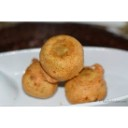bonda: (39, 31, 84, 80)
